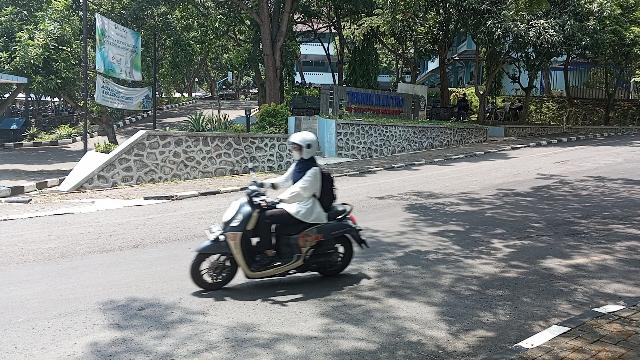helm: (289, 132, 320, 160)
motor: (194, 187, 371, 294)
